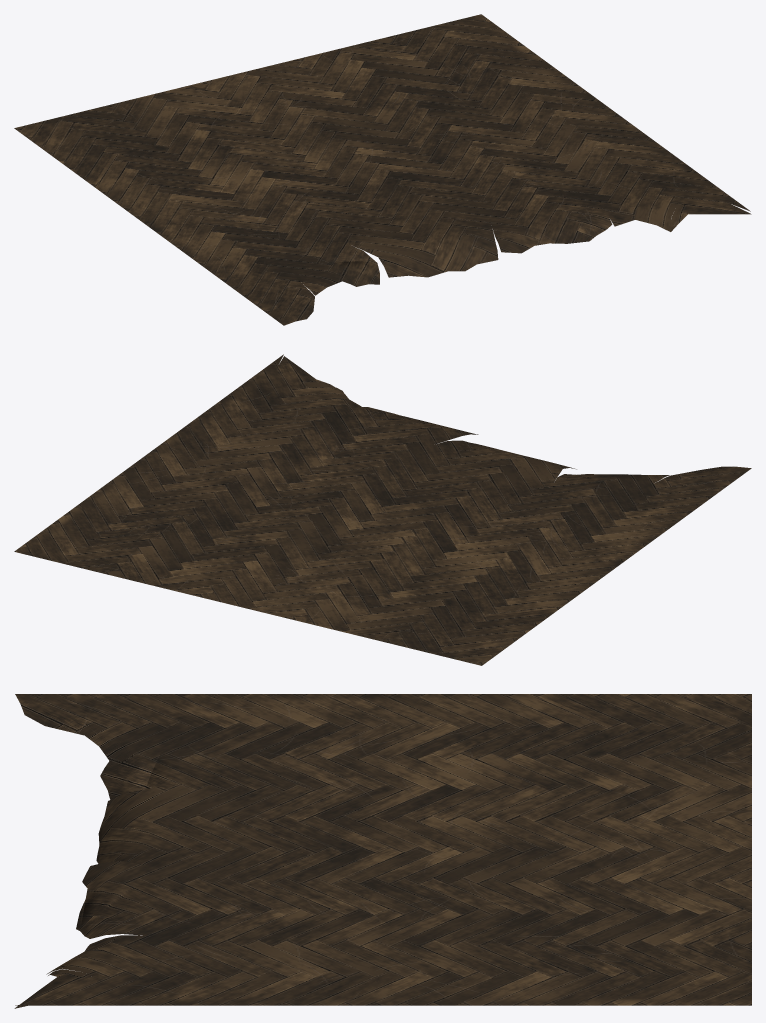
File: SM_CeilingC.FBX
3 views of the same model, one above another, from view 1: azimuth 30°, elevation 25°; view 2: azimuth 150°, elevation 25°; view 3: azimuth 270°, elevation 25° (orthographic). The views are drawn at different scales.
Parts seen in each view (by area): view 1: SM_CeilingC; view 2: SM_CeilingC; view 3: SM_CeilingC.
Boxes of the visible parts, <box> form: SM_CeilingC: <box>14,14,751,325</box>; SM_CeilingC: <box>14,354,751,665</box>; SM_CeilingC: <box>14,694,751,1008</box>.
Size of the model in its own units: 400 by 15.44 by 401.
